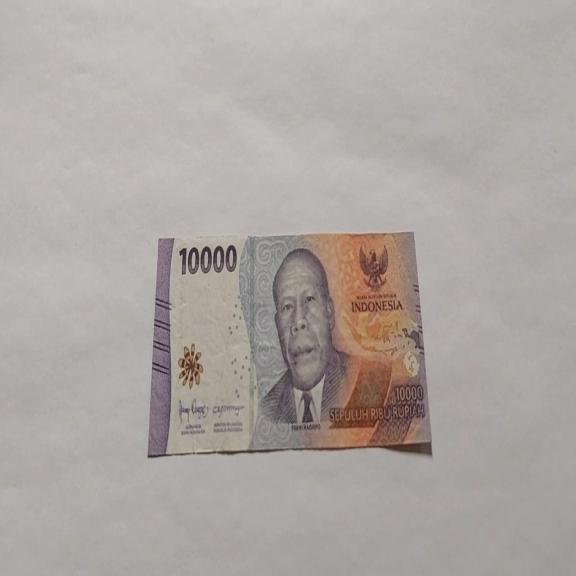Kertas: (147, 230, 432, 458), (178, 242, 238, 276)
